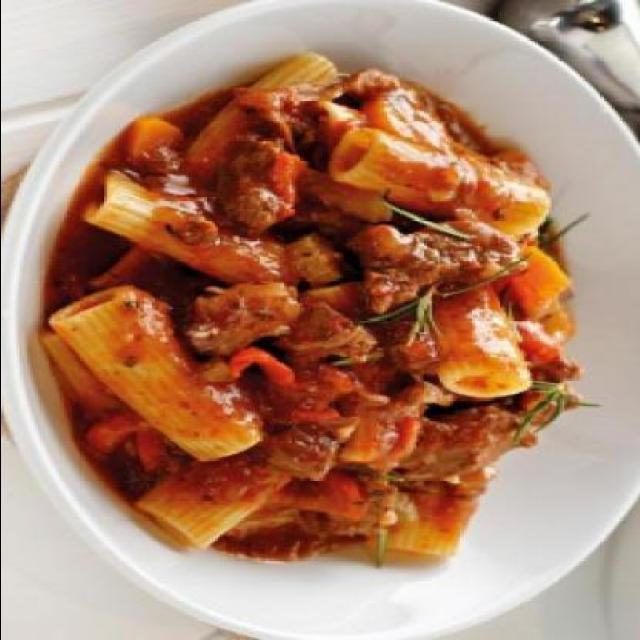Pasta al ragu: (63, 74, 592, 586)
